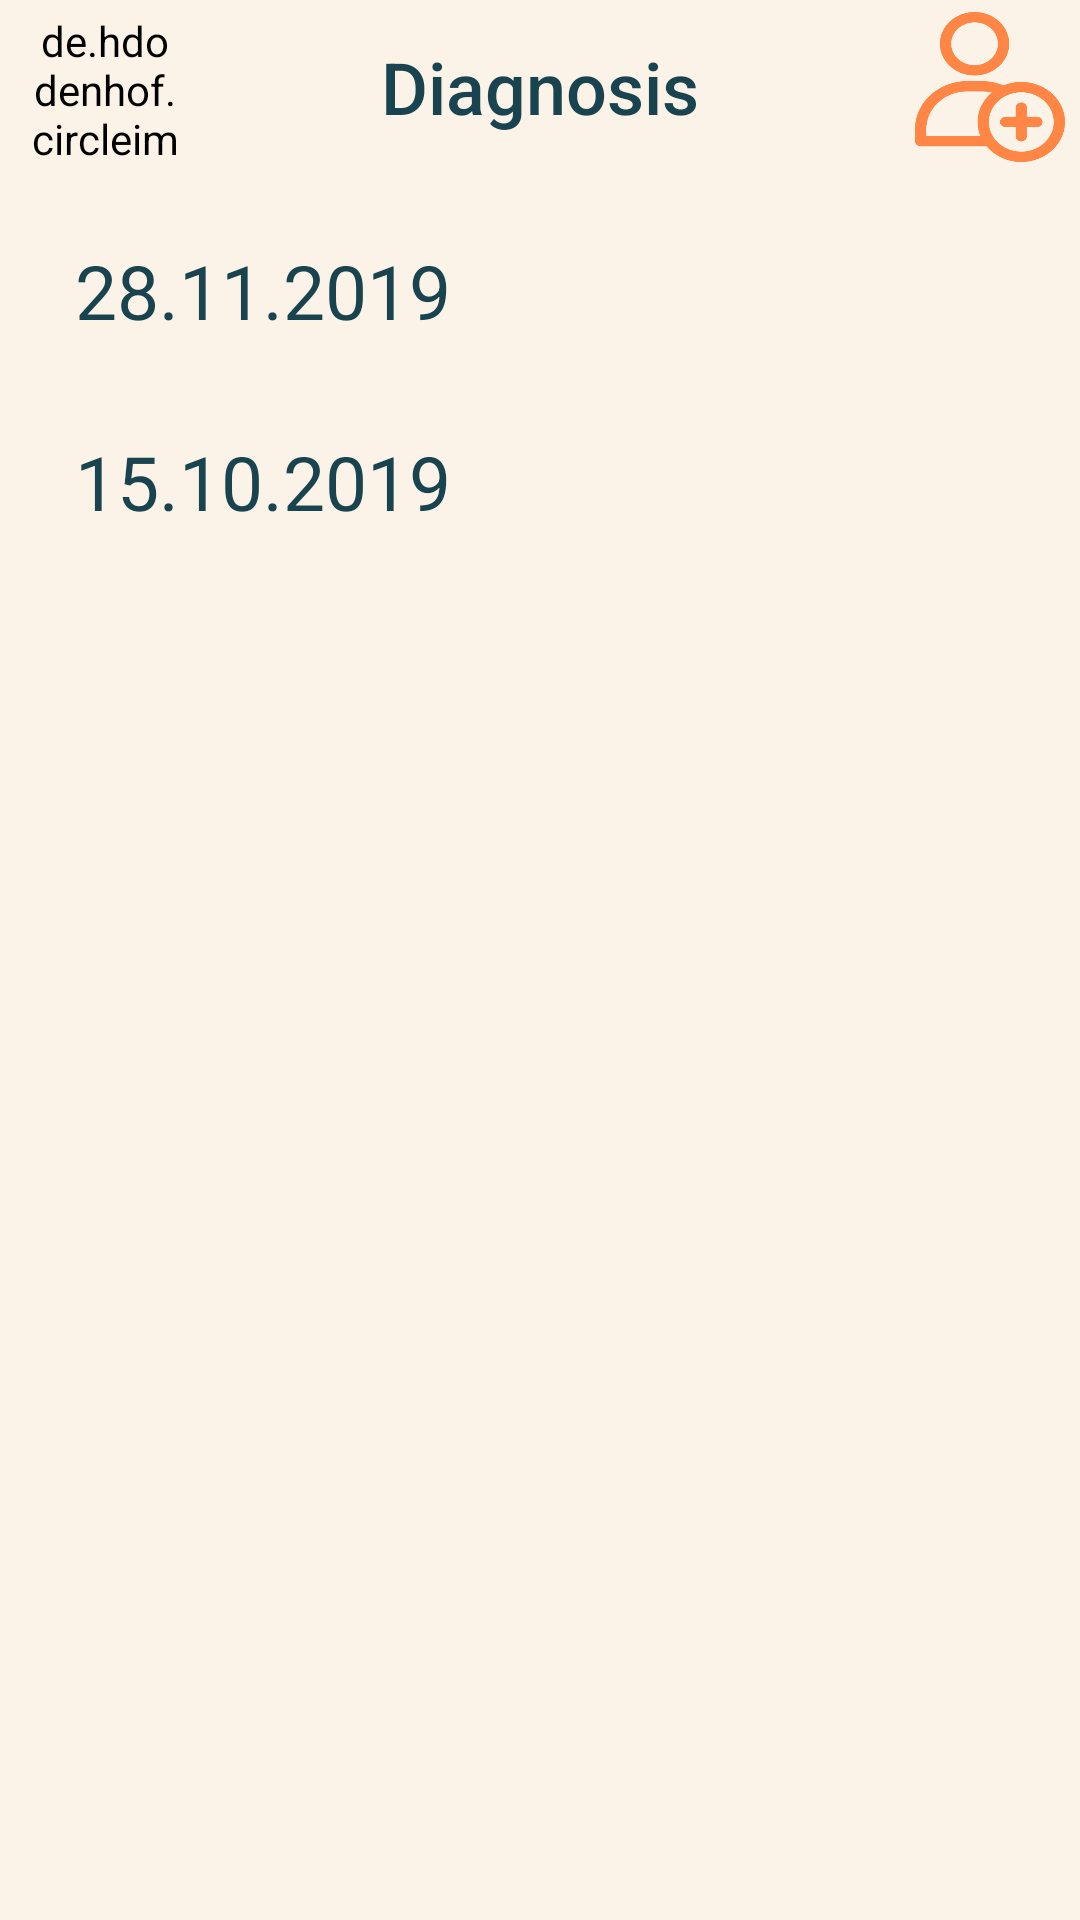

Named icons in this screenshot (1080w x 1920h) and their bounding boxes, (x1, y1, x2, y2):
add user: (915, 12, 1065, 162)
